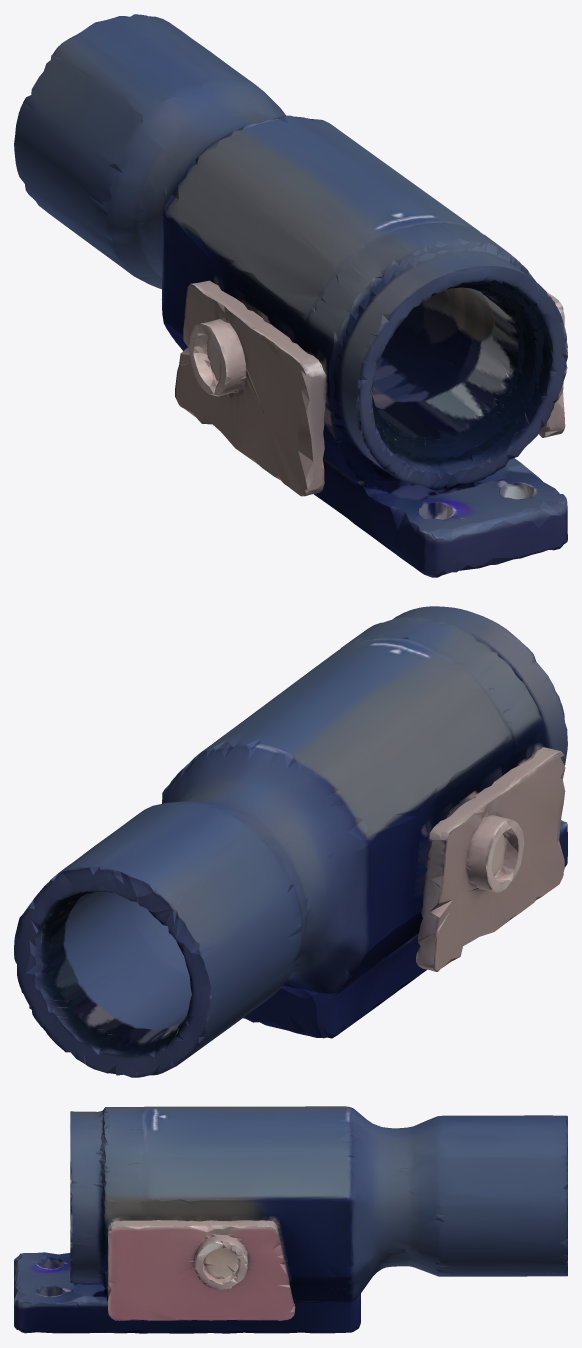
File: electrichypercar_rocket.glb
3 views of the same model, one above another, from view 1: azimuth 30°, elevation 25°; view 2: azimuth 150°, elevation 25°; view 3: azimuth 270°, elevation 25° (orthographic). The views are drawn at different scales.
Parts seen in each view (by area): view 1: Rocket_Electric_Hypercar_x; view 2: Rocket_Electric_Hypercar_x; view 3: Rocket_Electric_Hypercar_x.
Part boxes in pixels (x1,y1,x2,y2): Rocket_Electric_Hypercar_x: (14, 14, 567, 577); Rocket_Electric_Hypercar_x: (14, 606, 567, 1077); Rocket_Electric_Hypercar_x: (14, 1106, 567, 1333).
Size of the model in its own units: 0.2644 by 0.2331 by 0.6002.
1 material, 1 textured.
